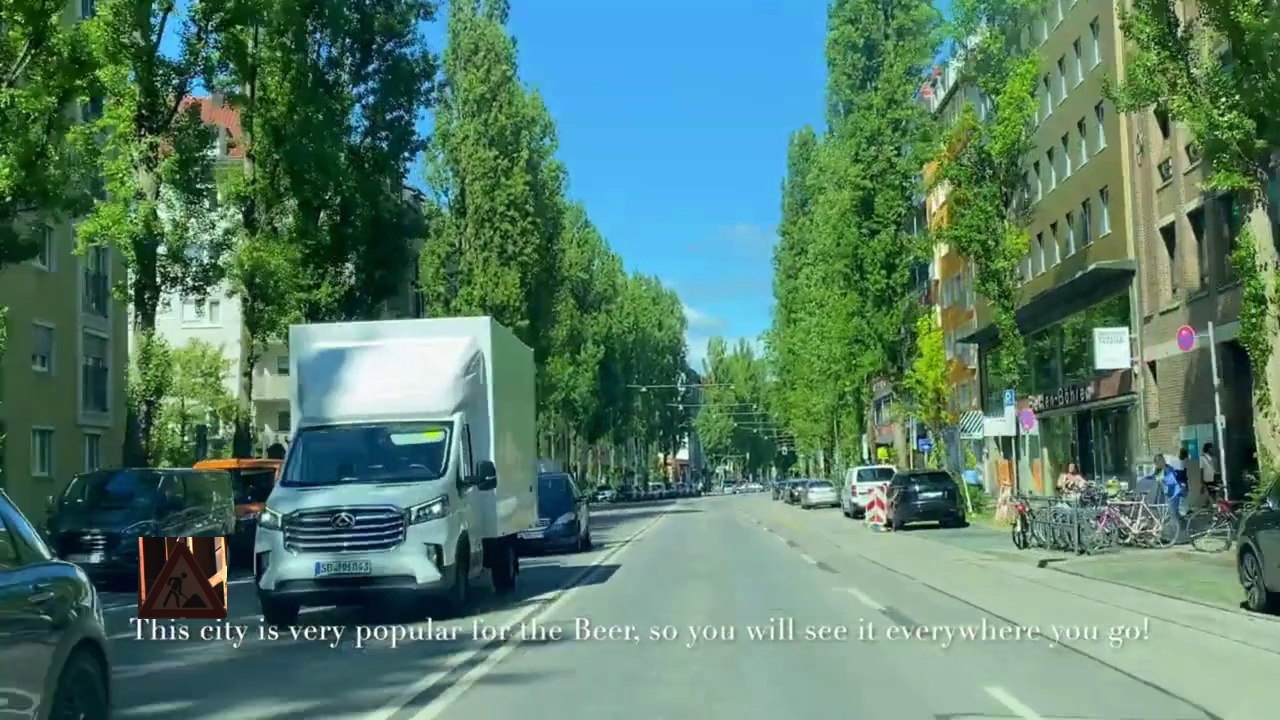Road work: (138, 537, 227, 619)
